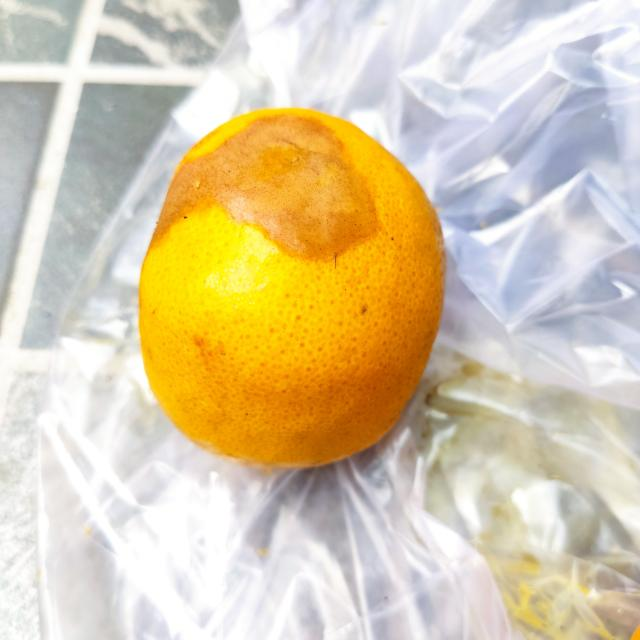orange: (134, 105, 450, 471)
